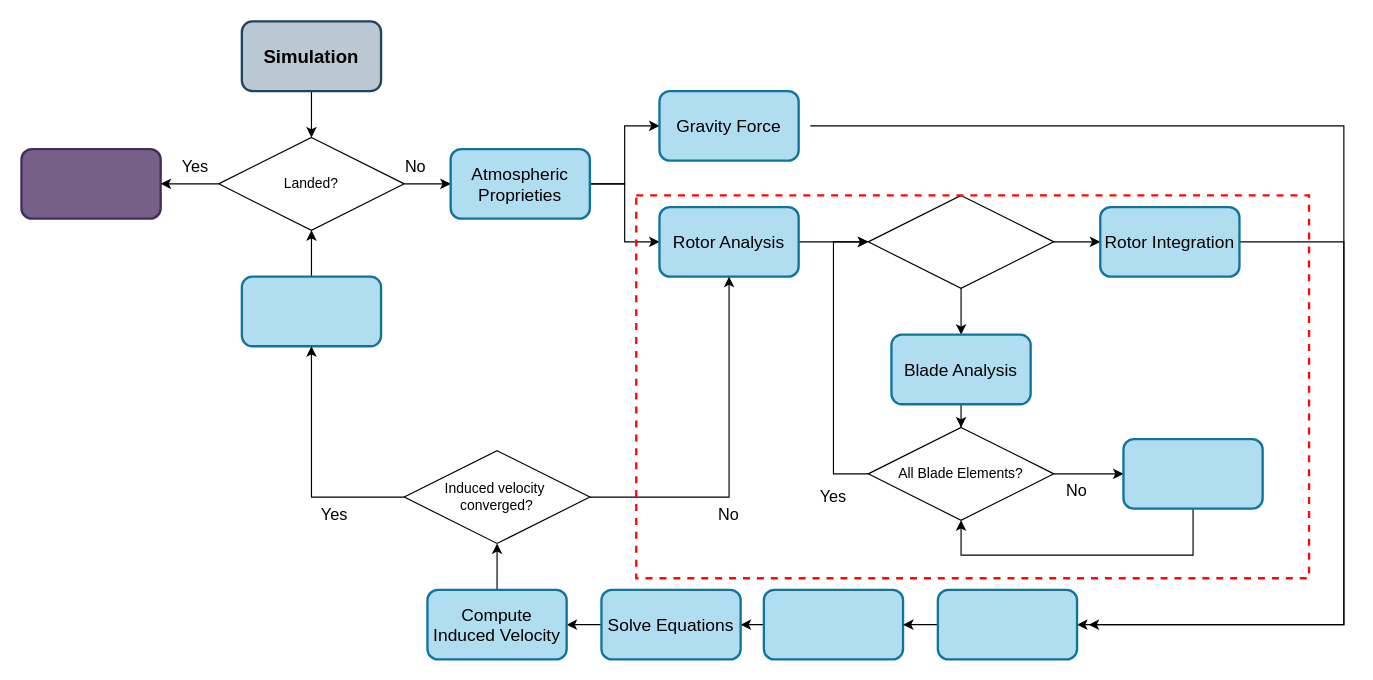
Some shapes in this 1373 by 680 pixel diagram are drawn without their labels. Each missing label, with the centre of its shape:
"All Azimutal Positions" belongs at point 960,241.
"Element Analysis" belongs at point 1192,473.
"Output Data" belongs at point 90,183.
"Save Data" belongs at point 311,311.
"Total Forces and Moments" belongs at point 1007,624.
"Update Solver parameters" belongs at point 833,624.
